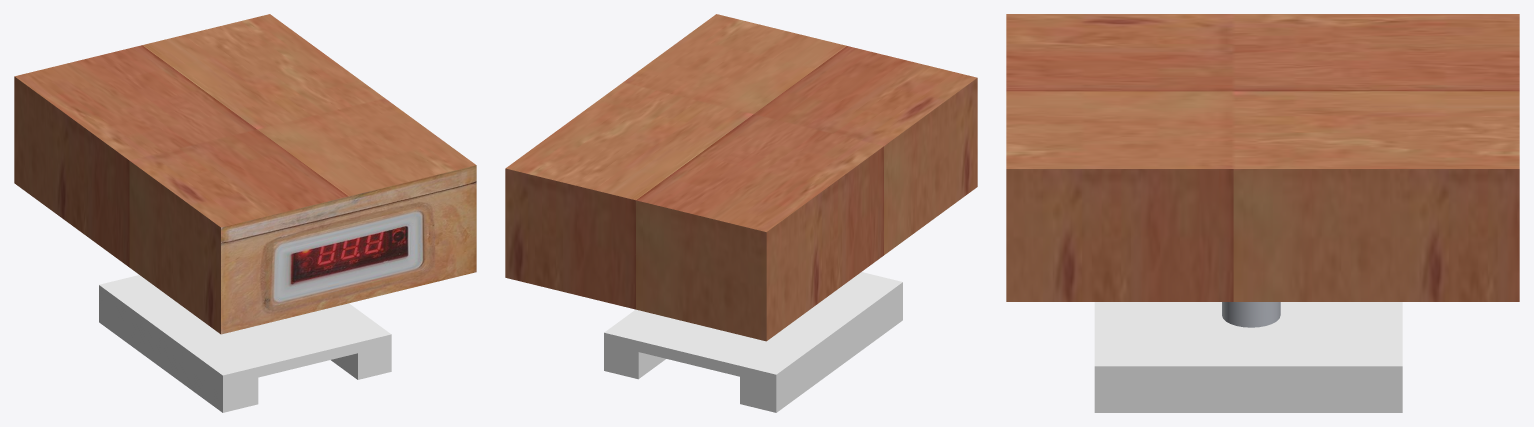
File: gfw15.gltf
3 renders of one model, left to right at view 1: azimuth 30°, elevation 25°; view 2: azimuth 150°, elevation 25°; view 3: azimuth 270°, elevation 25°, orthographic. The views are drawn at different scales.
Visible parts, largest first — view 1: Mesh1 Model, Mesh2 Model; view 2: Mesh1 Model, Mesh2 Model; view 3: Mesh1 Model, Mesh2 Model.
Part boxes in pixels (bbox=[...]): Mesh1 Model: bbox=[14, 14, 476, 334]; Mesh2 Model: bbox=[99, 275, 391, 412]; Mesh1 Model: bbox=[505, 14, 977, 341]; Mesh2 Model: bbox=[604, 272, 902, 412]; Mesh1 Model: bbox=[1006, 14, 1519, 327]; Mesh2 Model: bbox=[1094, 302, 1402, 412].
Size of the model in its own units: 0.5 by 0.4123 by 0.7.
Materials: 4 (3 with a texture image).
